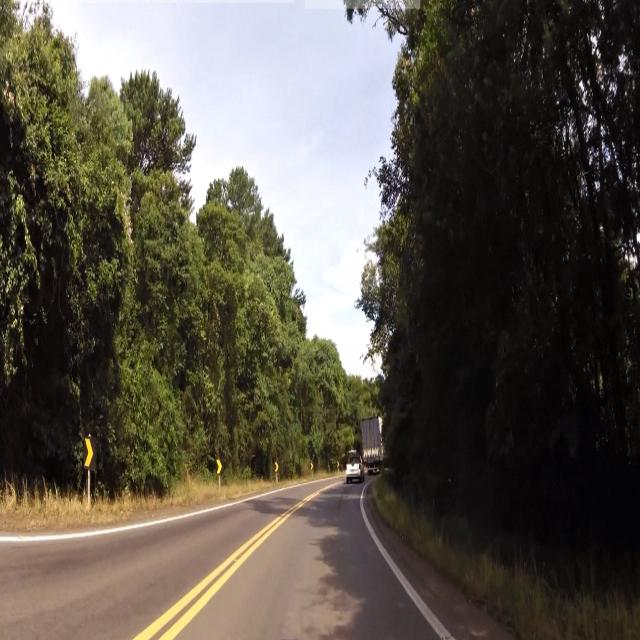Del: (84, 436, 97, 471)
